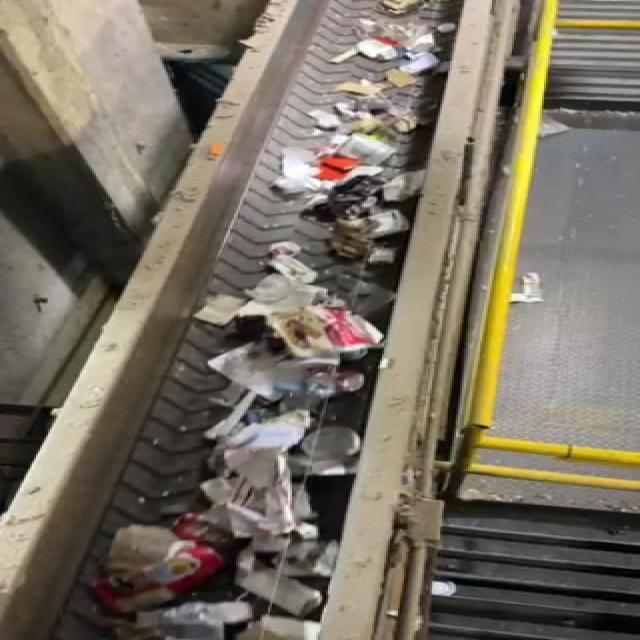metal: (172, 508, 264, 562)
pet: (99, 539, 265, 613)
